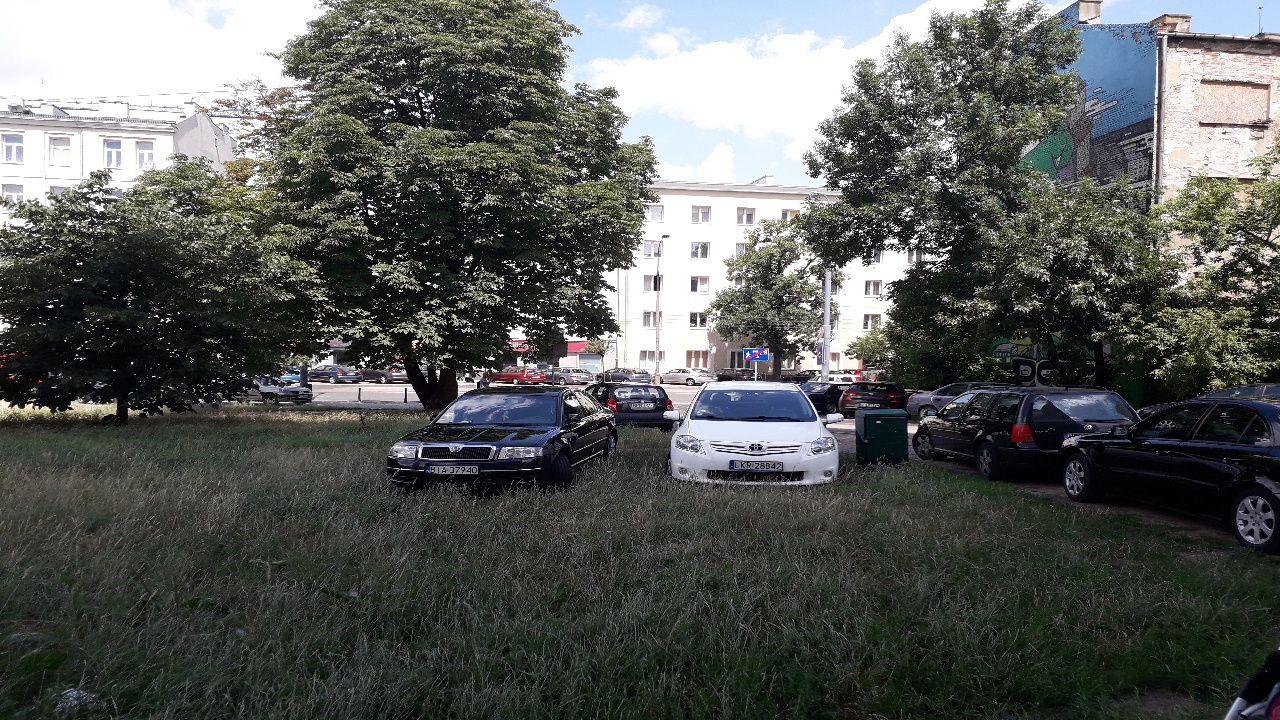D41: (743, 348, 769, 361)
